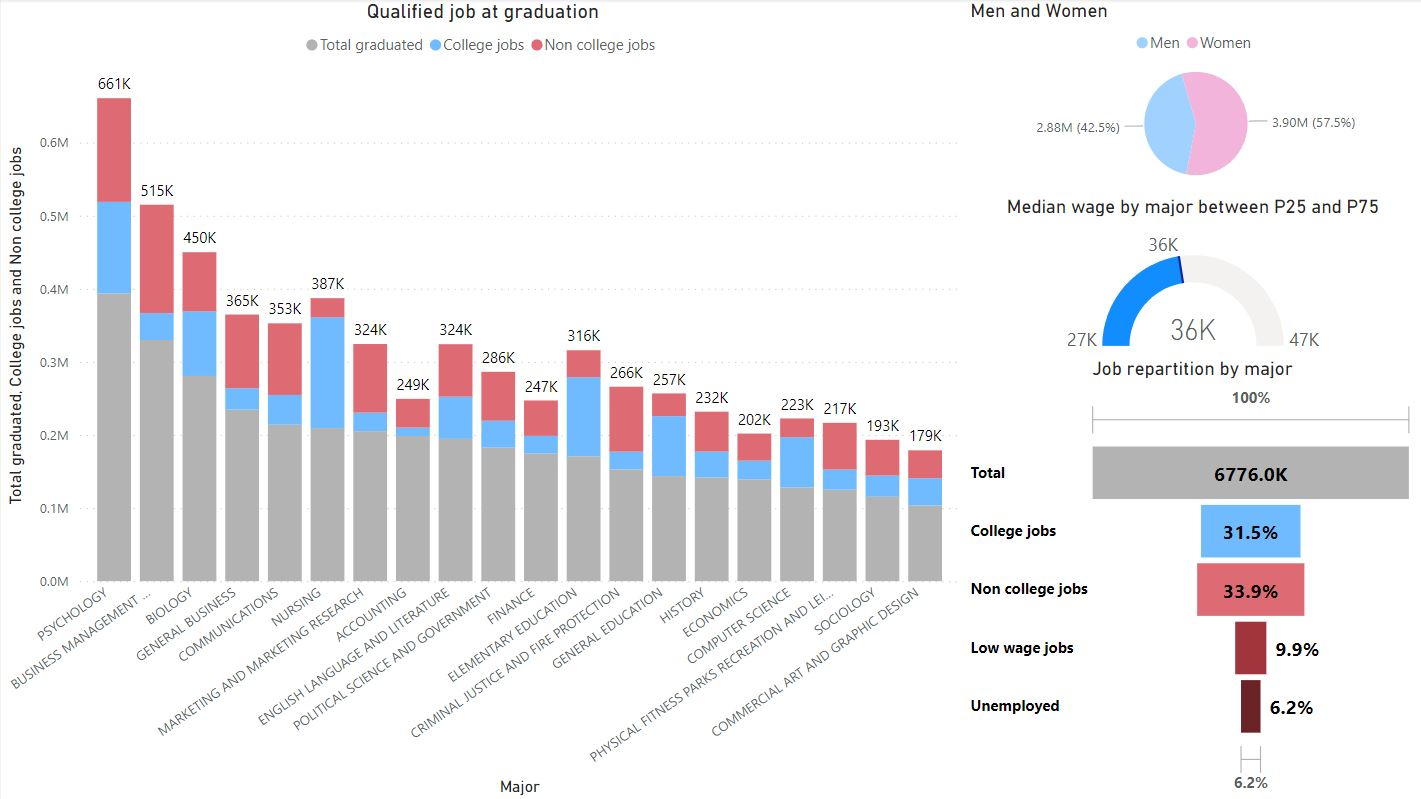

Layout of this report page (visuals, bound fields, positions):
{"tool":"powerbi","page":{"name":"Last graduation report","canvas":[1280,720],"ordinal":3},"visuals":[{"type":"lineStackedColumnComboChart","title":"Qualified job at graduation","fields":{"Category":["recent-grads.Major"],"Y":["Sum(recent-grads.Total)","Avg(recent-grads.College_jobs)","Avg(recent-grads.Non_college_jobs)"]},"box":[0,0,865.3,719.9],"z":0},{"type":"actionButton","box":[1099.2,13.6,100.1,39.8],"z":1000},{"type":"pieChart","fields":{"Y":["Sum(recent-grads.Men)","Sum(recent-grads.Women)"]},"box":[865.3,0,414.7,175.9],"z":2000},{"type":"gauge","title":"Median wage by major between P25 and P75","fields":{"MinValue":["Median(recent-grads.P25th)"],"MaxValue":["Median(recent-grads.P75th)"],"Y":["Median(recent-grads.Median)"],"TargetValue":["recent-grads.Average graduate wage"]},"box":[865.3,175.9,409.3,145.4],"z":3000},{"type":"funnel","title":"Job repartition by major","fields":{"Y":["Sum(recent-grads.Total)","Sum(recent-grads.College_jobs)","Sum(recent-grads.Non_college_jobs)","Sum(recent-grads.Low_wage_jobs)","Sum(recent-grads.Unemployed)"]},"box":[865.3,321.3,408.4,398.5],"z":3001}]}

Visuals, with their boxes in screenshot pixels (x1, y1, x2, y2), scaled from the page's 1280x720 canvas onto the 1421x799 screenshot:
"Qualified job at graduation" lineStackedColumnComboChart: Rect(0, 0, 961, 798)
actionButton: Rect(1220, 15, 1331, 59)
pieChart - Sum(recent-grads.Men) x Sum(recent-grads.Women): Rect(961, 0, 1420, 195)
"Median wage by major between P25 and P75" gauge: Rect(961, 195, 1415, 357)
"Job repartition by major" funnel: Rect(961, 357, 1414, 798)
